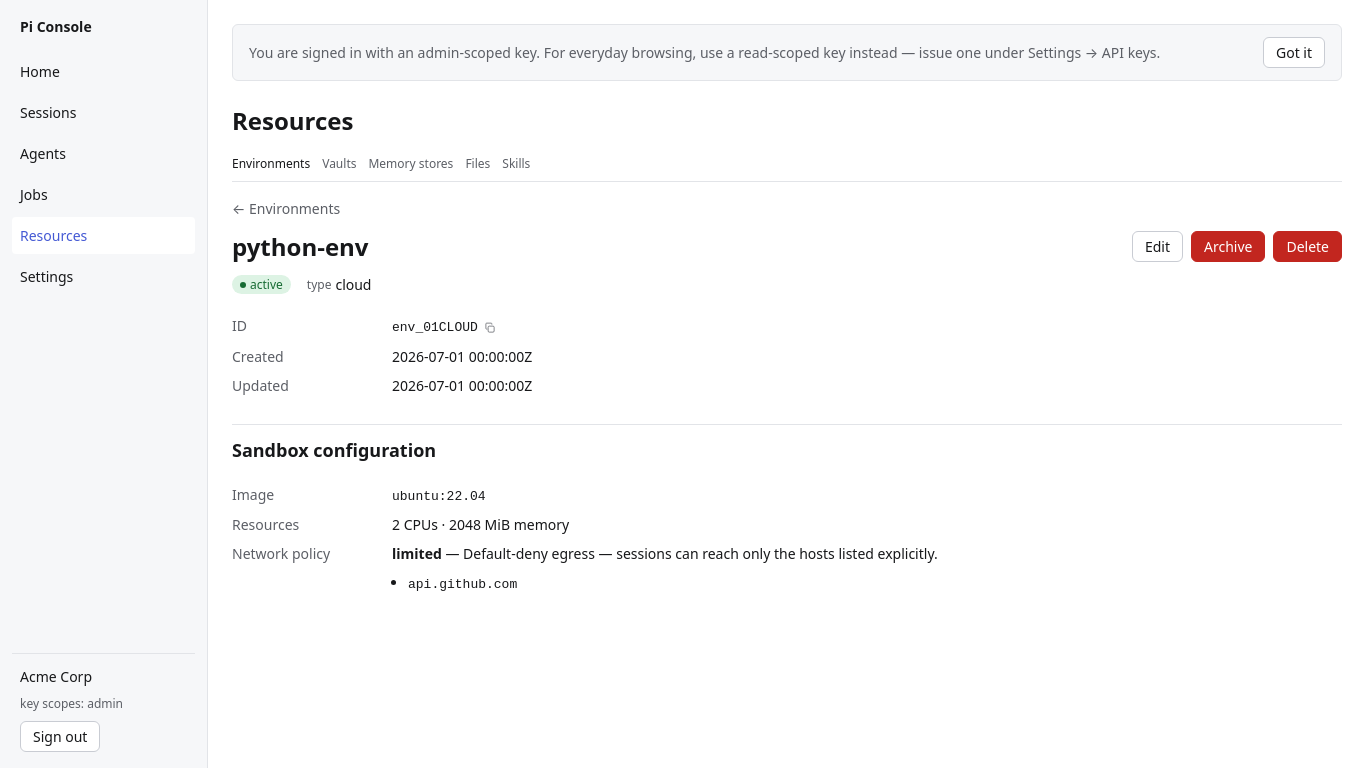
it: environment lifecycle (§9.2, DP-7) › archive requires retyping the name and names the terminal consequence
This screenshot has width=1366, height=768.
Expected: the heading "python-env" is shown, left=232, top=231, right=368, bottom=262
Click the button "Archive" at (1228, 247), box left=1191, top=231, right=1266, bottom=262
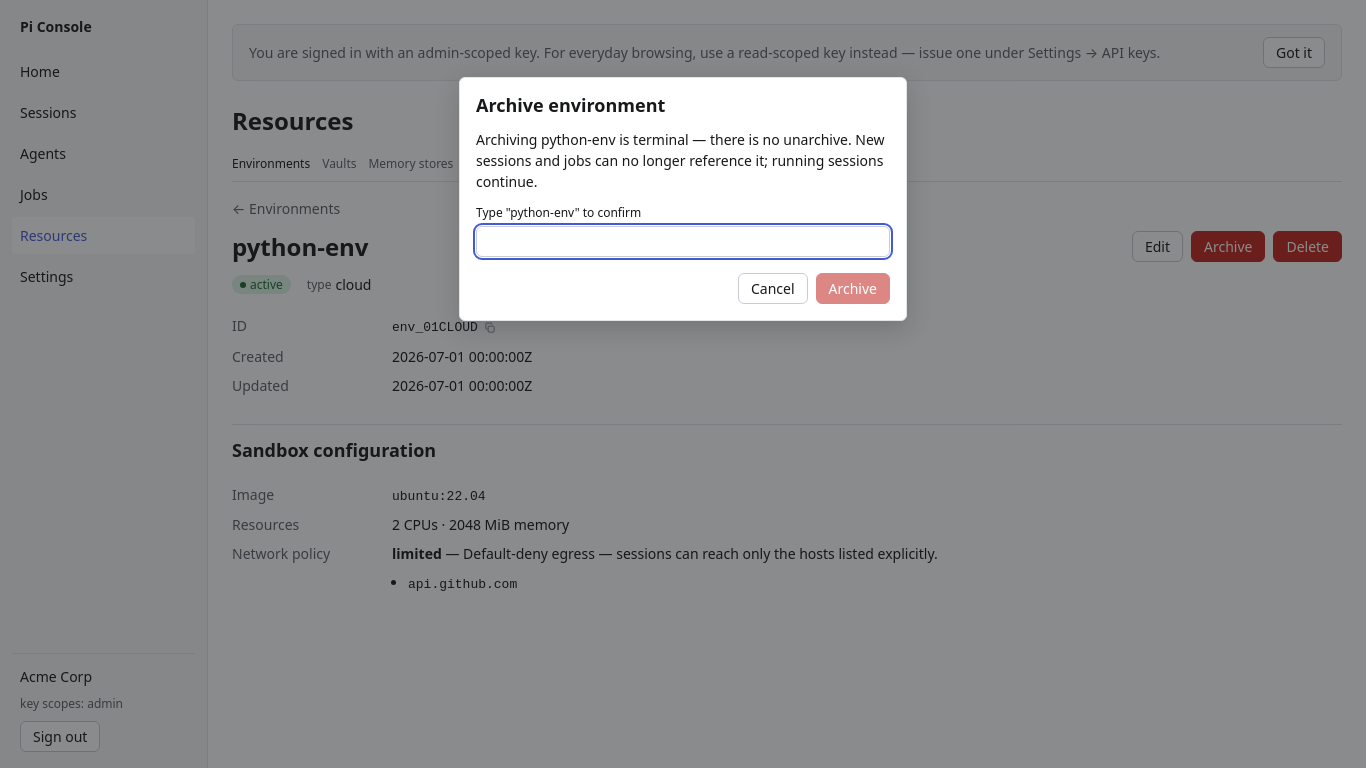
Now the text "terminal — there is no unarchive" is shown, box left=476, top=130, right=885, bottom=191
Now the button "Archive" is disabled, box left=816, top=273, right=890, bottom=304
Type "python-env" into the field labelled "Type \"python-env\" to confirm" at (683, 242), box left=476, top=226, right=890, bottom=257
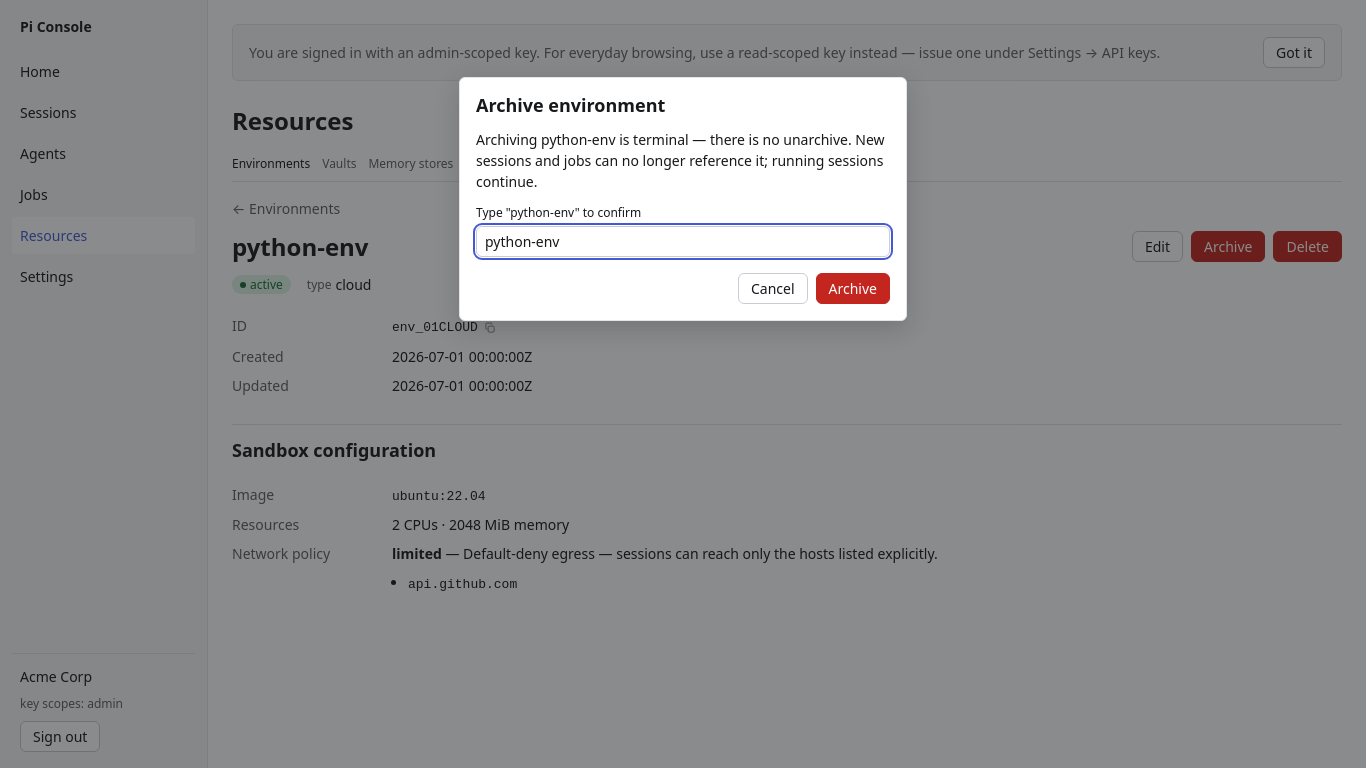
Now the button "Archive" is enabled
Click the button "Archive" at (853, 289), box left=816, top=273, right=890, bottom=304
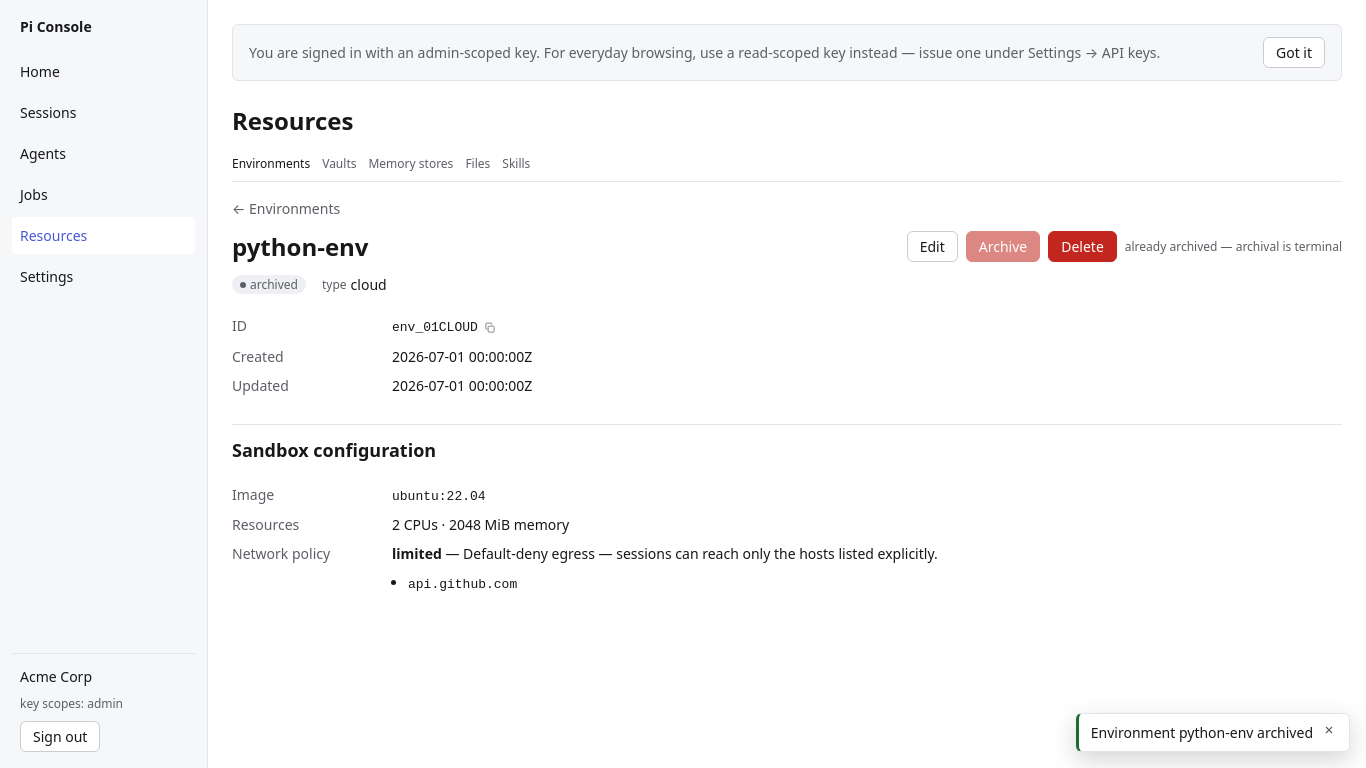
Now the text "archived" is shown, box left=232, top=275, right=306, bottom=294
Now the button "Archive" is disabled, box left=966, top=231, right=1040, bottom=262
